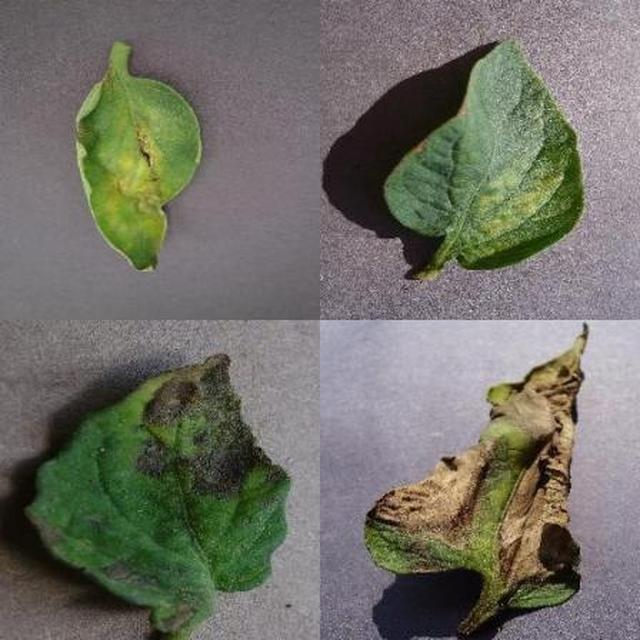Late Blight Leaf: (189, 217, 640, 640)
